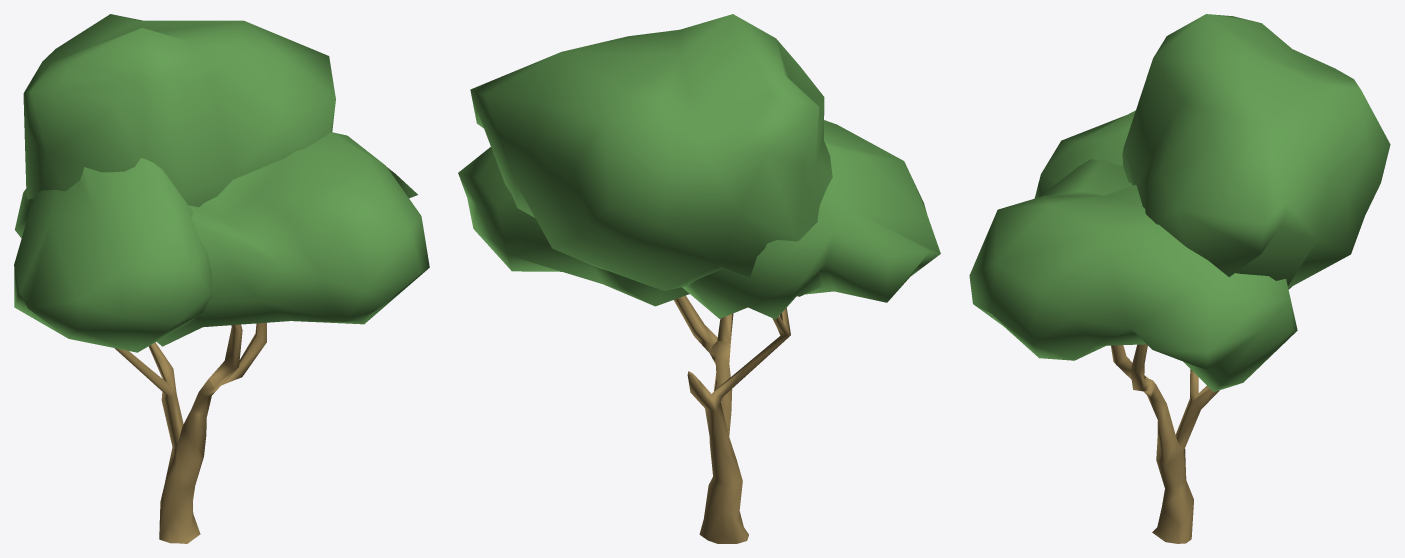
Rendered from tree3-transformed.glb.
The picture shows the model from 3 angles, left to right: view 1: azimuth 30°, elevation 25°; view 2: azimuth 150°, elevation 25°; view 3: azimuth 270°, elevation 25°; orthographic projection. The views are drawn at different scales.
Parts seen in each view (by area): view 1: Cube.406; view 2: Cube.406; view 3: Cube.406.
Boxes of the visible parts, x1,y1,x2,y2 form: Cube.406: (14, 14, 429, 543); Cube.406: (458, 14, 940, 543); Cube.406: (969, 14, 1390, 543).
Bounding box in the file's own units: 4.8 × 5.65 × 4.22.
Materials: 1 (1 with a texture image).
